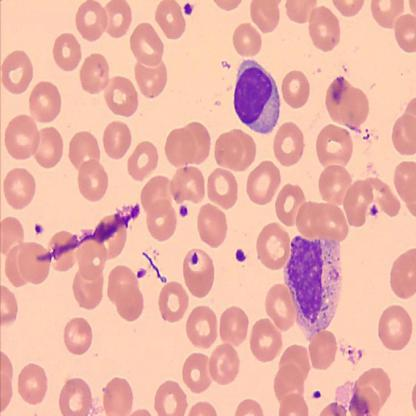Metamyelocyte: (234, 57, 280, 135)
